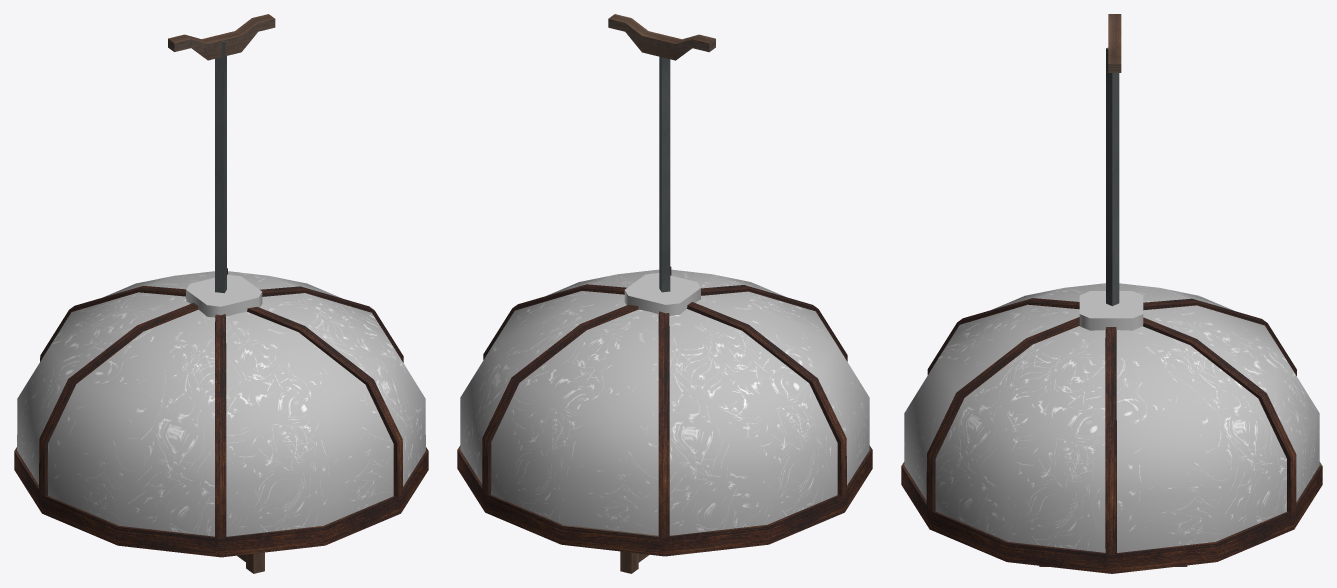
Rendered from jov_andon05.fbx.
3 views of the same model, side by side, from view 1: azimuth 30°, elevation 25°; view 2: azimuth 150°, elevation 25°; view 3: azimuth 270°, elevation 25° (orthographic).
Parts seen in each view (by area): view 1: jov_andon05; view 2: jov_andon05; view 3: jov_andon05.
Boxes of the visible parts, x1,y1,x2,y2 form: jov_andon05: (14,14,428,573); jov_andon05: (457,14,872,573); jov_andon05: (901,14,1322,573).
Bounding box in the file's own units: 65.1 × 89.57 × 65.1.
